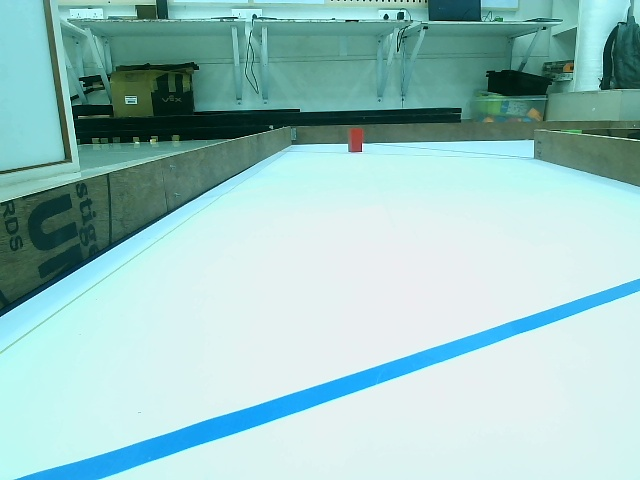red: (350, 129, 362, 150)
